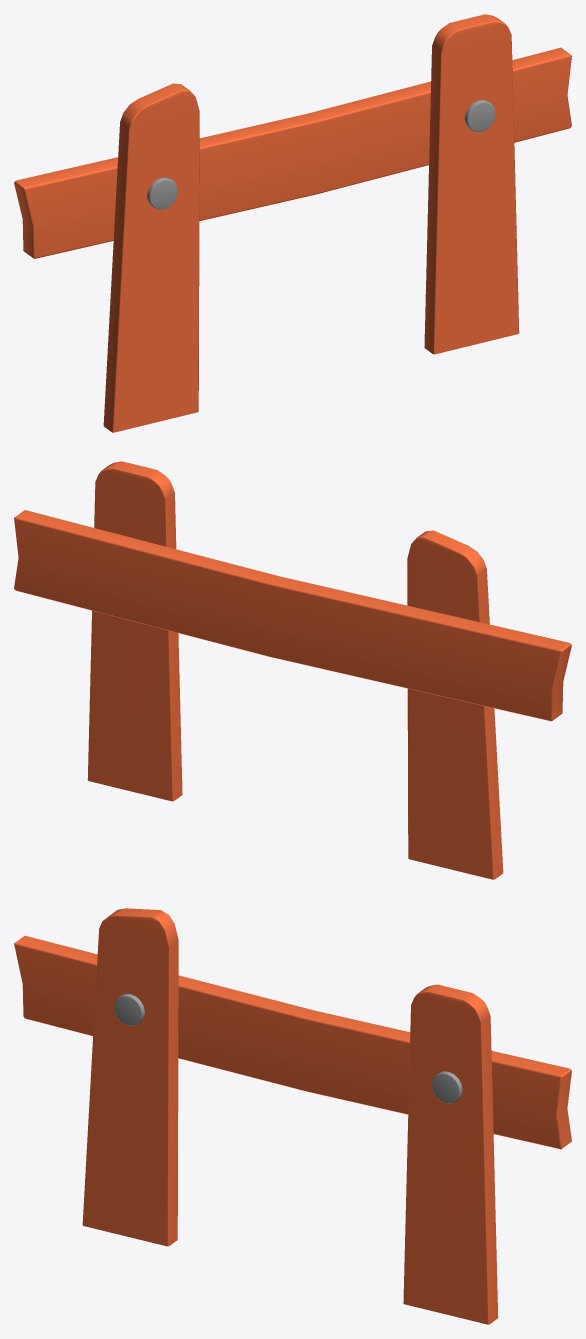
Rendered from Farm_5_Fence_1.glb.
3 renders of one model, top to bottom at view 1: azimuth 30°, elevation 25°; view 2: azimuth 150°, elevation 25°; view 3: azimuth 330°, elevation 25°, orthographic.
Parts seen in each view (by area): view 1: Farm_5_Fence_1; view 2: Farm_5_Fence_1; view 3: Farm_5_Fence_1.
Part boxes in pixels (bbox=[...]): Farm_5_Fence_1: bbox=[14, 14, 571, 432]; Farm_5_Fence_1: bbox=[14, 461, 571, 879]; Farm_5_Fence_1: bbox=[14, 908, 571, 1324].
Bounding box in the file's own units: 2.61 × 1.48 × 0.1955.
Materials: 1 (1 with a texture image).
